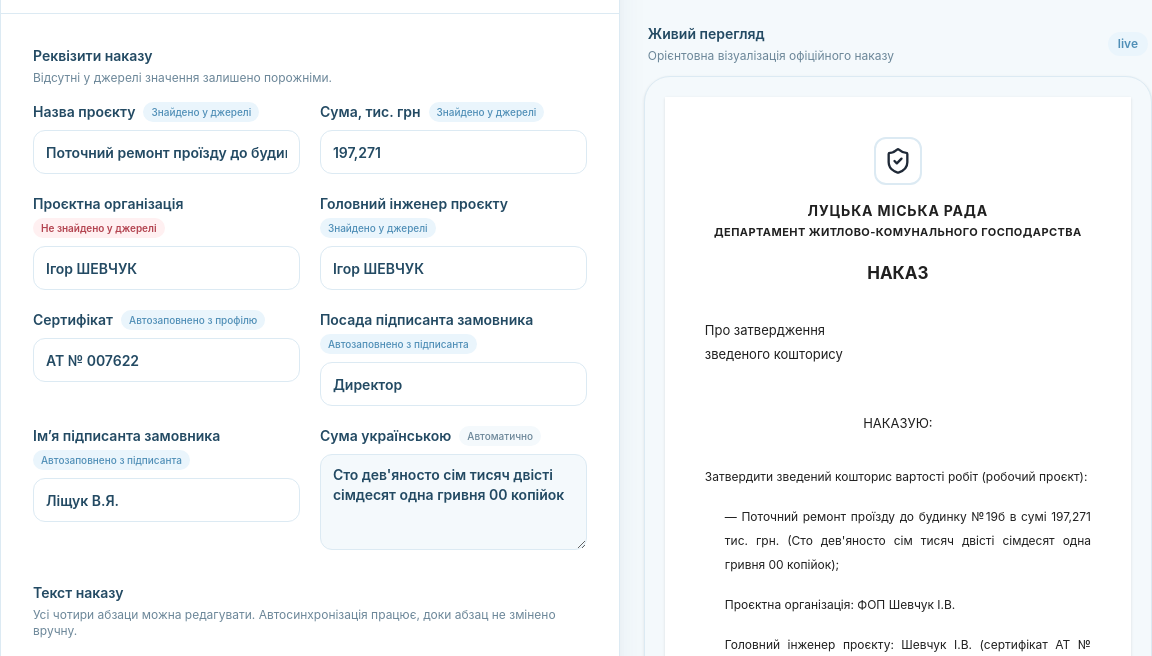
ReviewEditStep › preserves a manually edited certificate after source synchronization
(page scrolled)
Replace the text in the field labelled "Сертифікат Автозаповнено з профілю" with "АТ № ручний" at (166, 360), box [33,338,300,382]
(page scrolled)
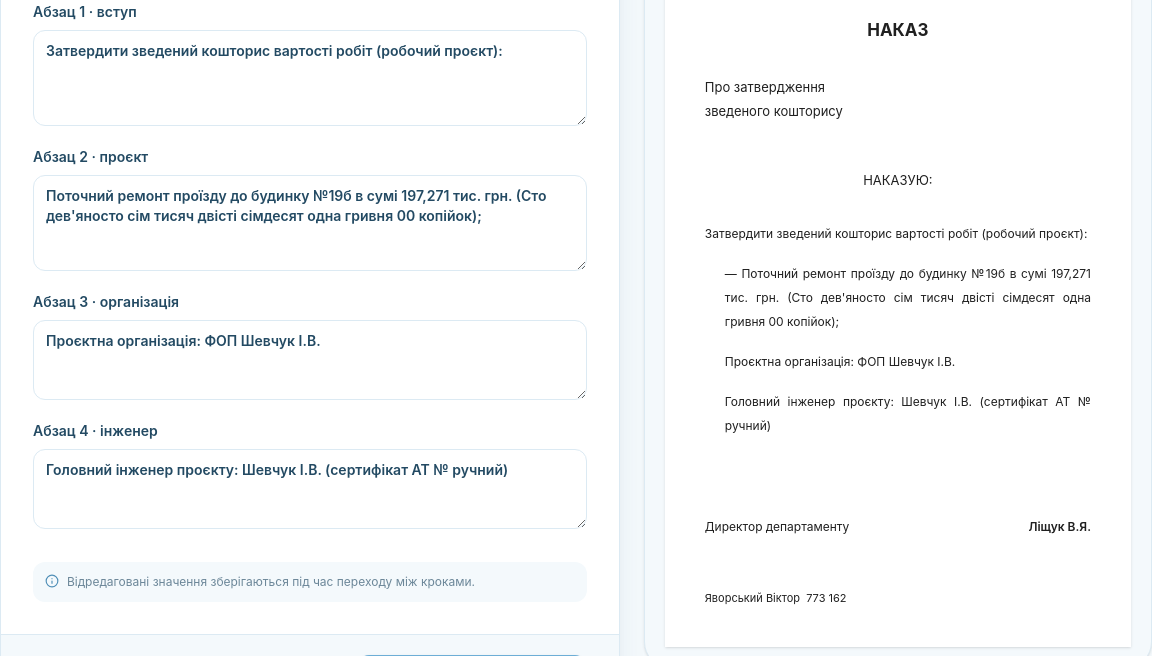
Expected: the text box labelled "Абзац 4 · інженер" holds "Головний інженер проєкту: Шевчук І.В. (сертифікат АТ № ручний)", [33,449,587,529]
